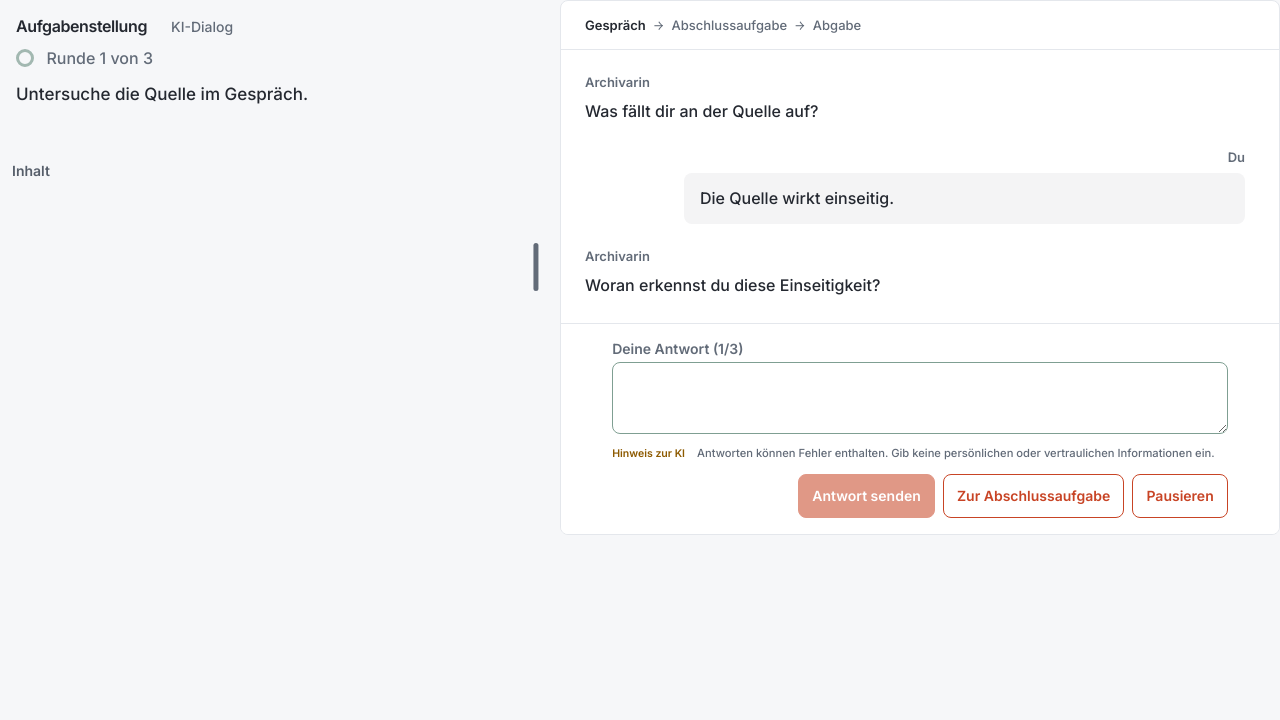
it: LearningDialogWorkspace › opens and leaves the closing phase without a server mutation
Click the button "Zur Abschlussaufgabe".
click(1034, 496)  # box [943,474,1124,518]
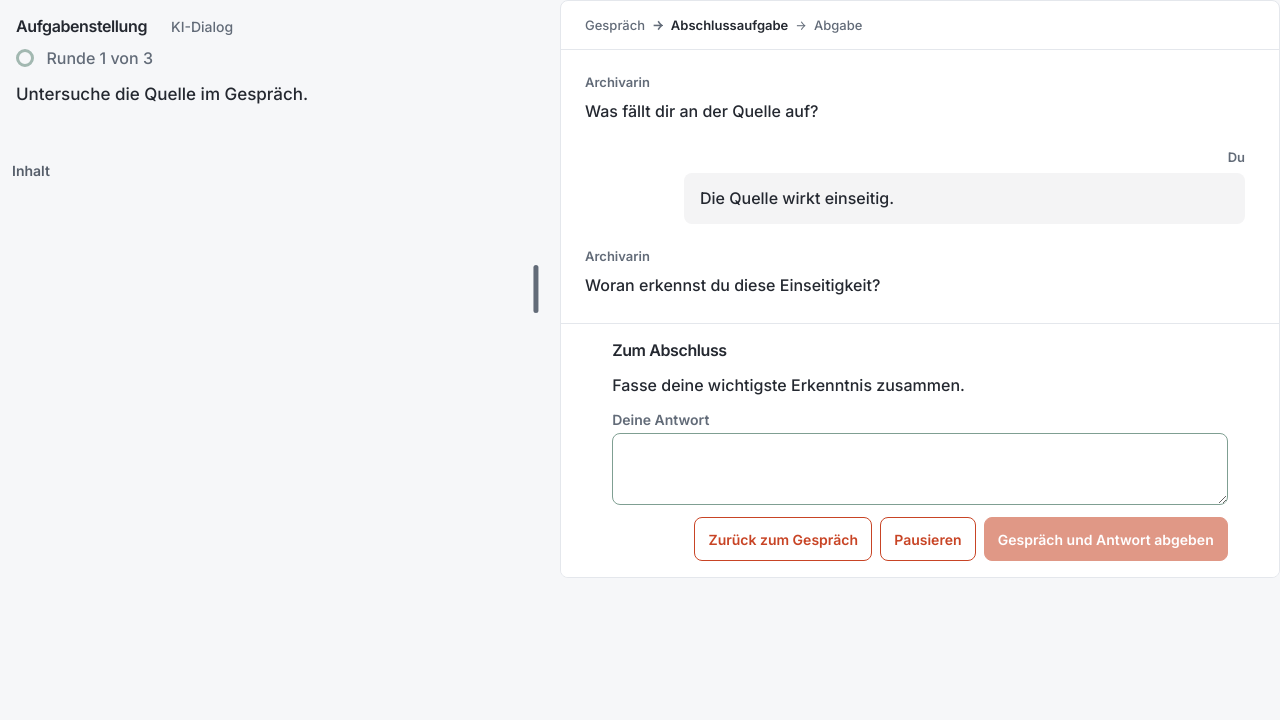
Now the button "Zur Abschlussaufgabe" is gone
Now the button "Gespräch und Antwort abgeben" is shown, box [984,517,1228,561]
Now the button "Zurück zum Gespräch" is shown
Click the button "Zurück zum Gespräch".
click(783, 539)  # box [694,517,872,561]
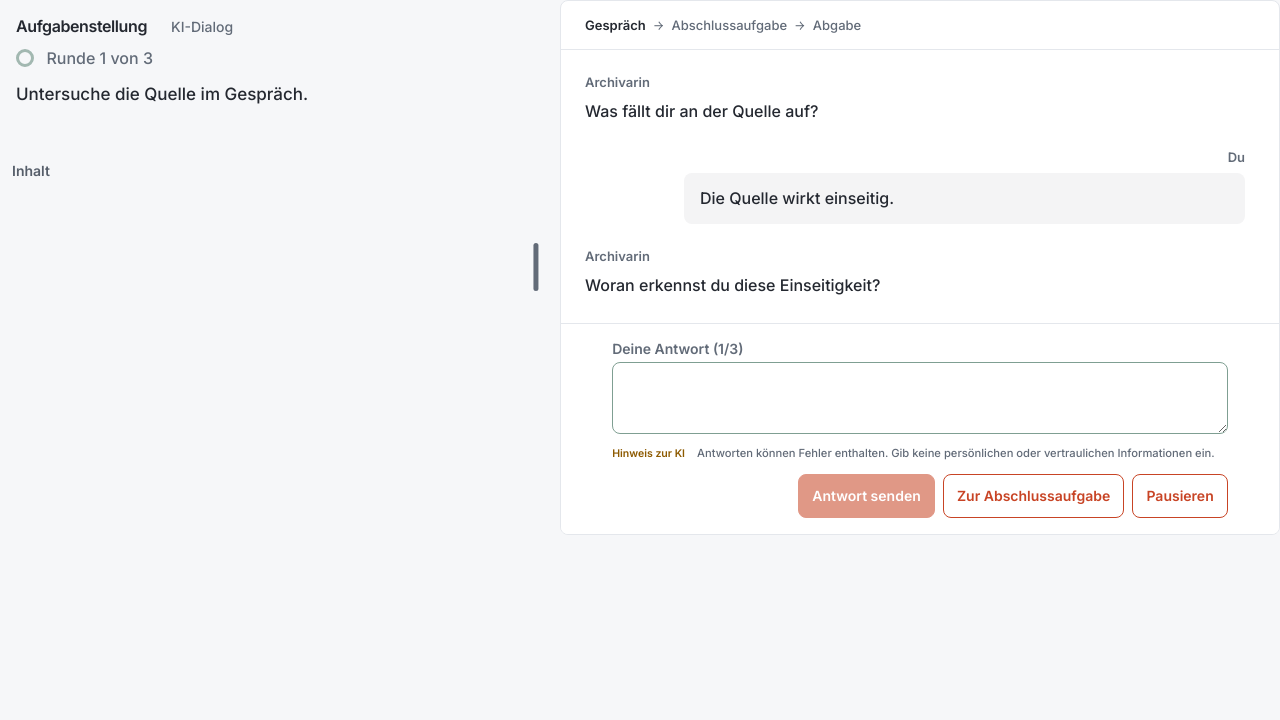
Expected: the text box labelled "Deine Antwort (1/3)" is shown, [612,362,1228,434]
Now the text "Fasse deine wichtigste Erkenntnis zusammen." is gone
